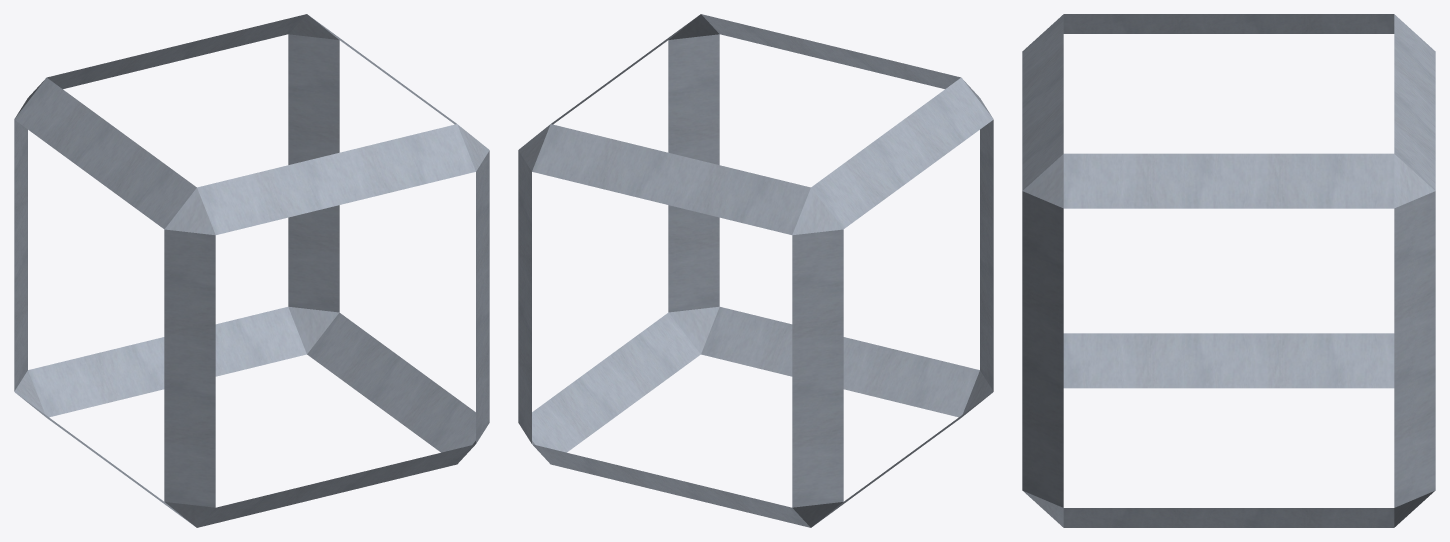
The model's file is master_joint.dae.
3 views of the same model, side by side, from view 1: azimuth 30°, elevation 25°; view 2: azimuth 150°, elevation 25°; view 3: azimuth 270°, elevation 25° (orthographic). The views are drawn at different scales.
Parts seen in each view (by area): view 1: master_joint; view 2: master_joint; view 3: master_joint.
Boxes of the visible parts, x1=… form: master_joint: x1=14, y1=14, x2=489, y2=527; master_joint: x1=518, y1=14, x2=993, y2=527; master_joint: x1=1022, y1=14, x2=1435, y2=527.
Size of the model in its own units: 97.44 by 97.44 by 97.44.
Materials: 1 (1 with a texture image).
